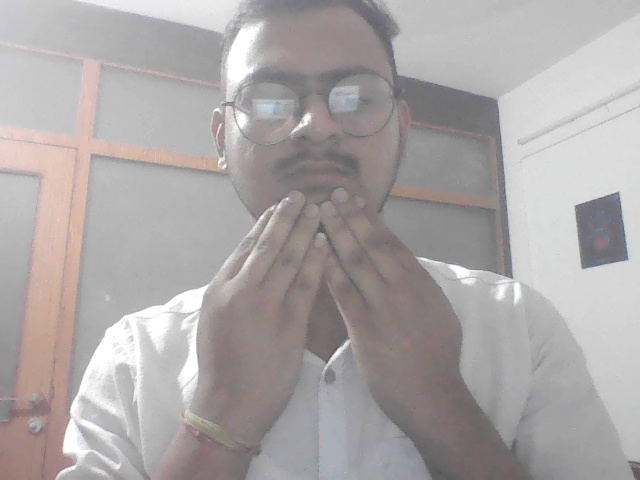ThankYou: (169, 182, 492, 449)
